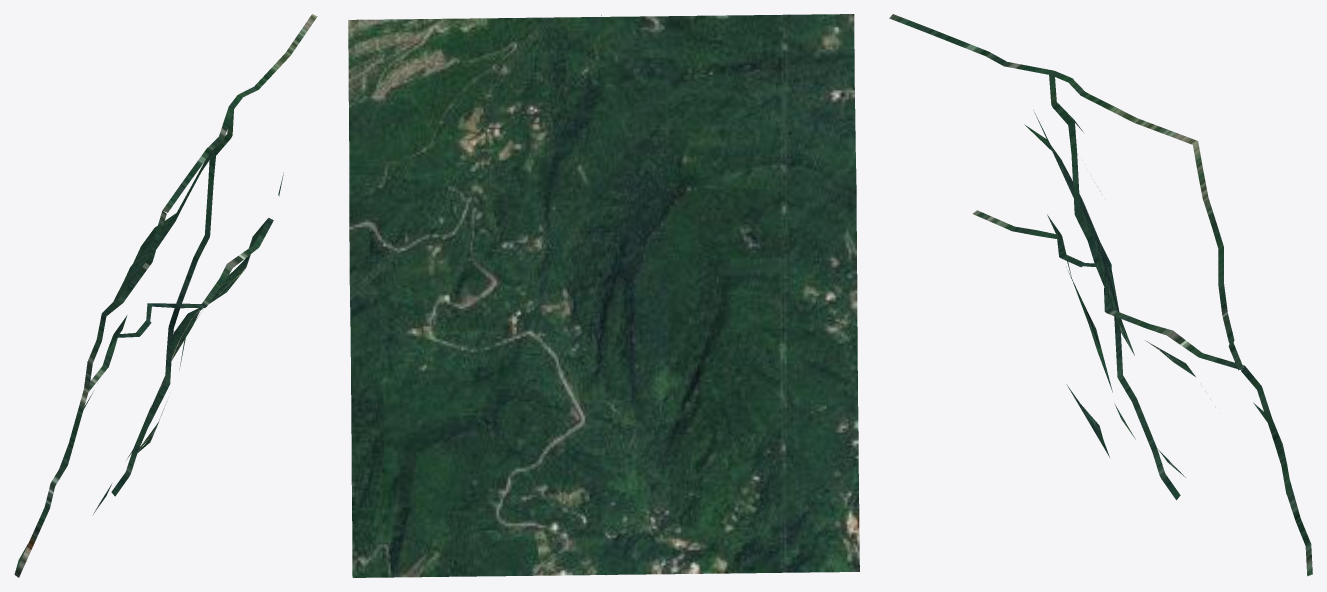
The picture shows the model from 3 angles, left to right: view 1: azimuth 30°, elevation 25°; view 2: azimuth 150°, elevation 25°; view 3: azimuth 270°, elevation 25°; orthographic projection. The views are drawn at different scales.
Size of the model in its own units: 2204 by 2453 by 1990.
1 material, 1 textured.
